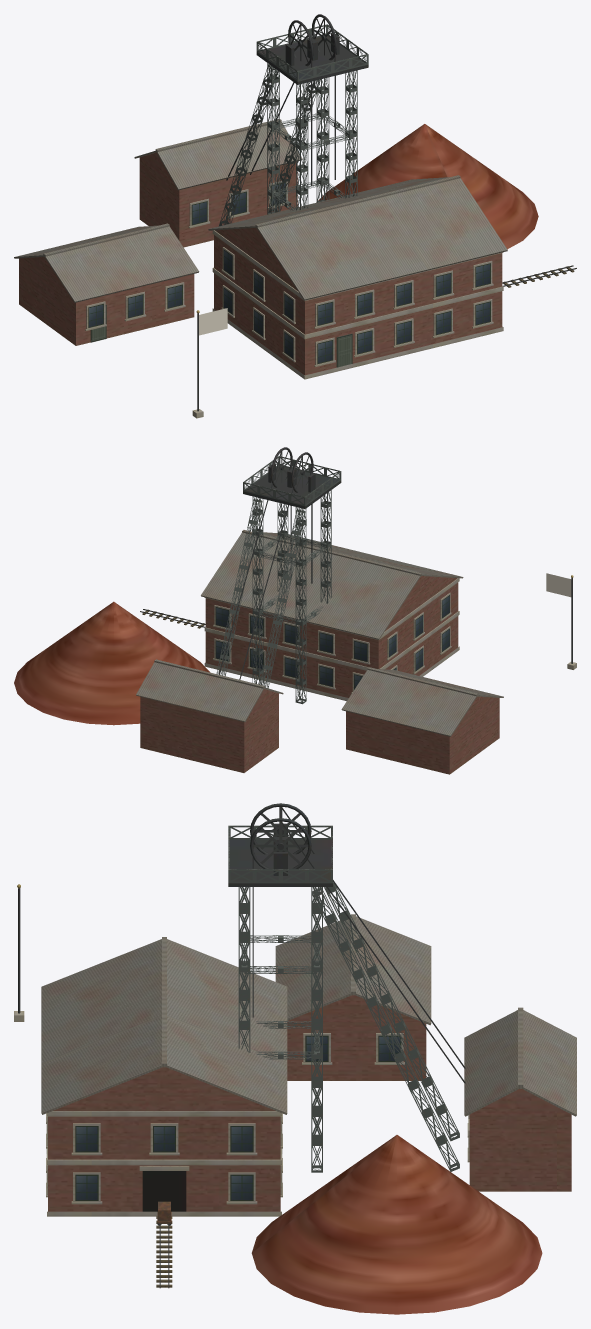
The model's file is mine.glb.
3 views of the same model, one above another, from view 1: azimuth 30°, elevation 25°; view 2: azimuth 150°, elevation 25°; view 3: azimuth 270°, elevation 25° (orthographic). The views are drawn at different scales.
Visible parts, largest first — view 1: recette, chevalement, annexe, drapeau; view 2: recette, annexe, chevalement, drapeau; view 3: recette, annexe, chevalement, molette_2, rail, molette_1.
Boxes of the visible parts, x1,y1,x2,y2 form: recette: (208, 175, 507, 379); chevalement: (134, 18, 368, 247); annexe: (14, 124, 538, 345); drapeau: (199, 308, 227, 335); recette: (201, 530, 463, 701); annexe: (14, 601, 503, 774); chevalement: (136, 451, 341, 772); drapeau: (546, 573, 571, 597); recette: (41, 937, 287, 1216); annexe: (251, 914, 542, 1314); chevalement: (228, 806, 576, 1191); molette_2: (250, 818, 311, 868); rail: (156, 1216, 172, 1288); molette_1: (250, 803, 311, 854).
Size of the model in its own units: 50.3 by 26.12 by 38.72.
15 materials, 14 textured.
